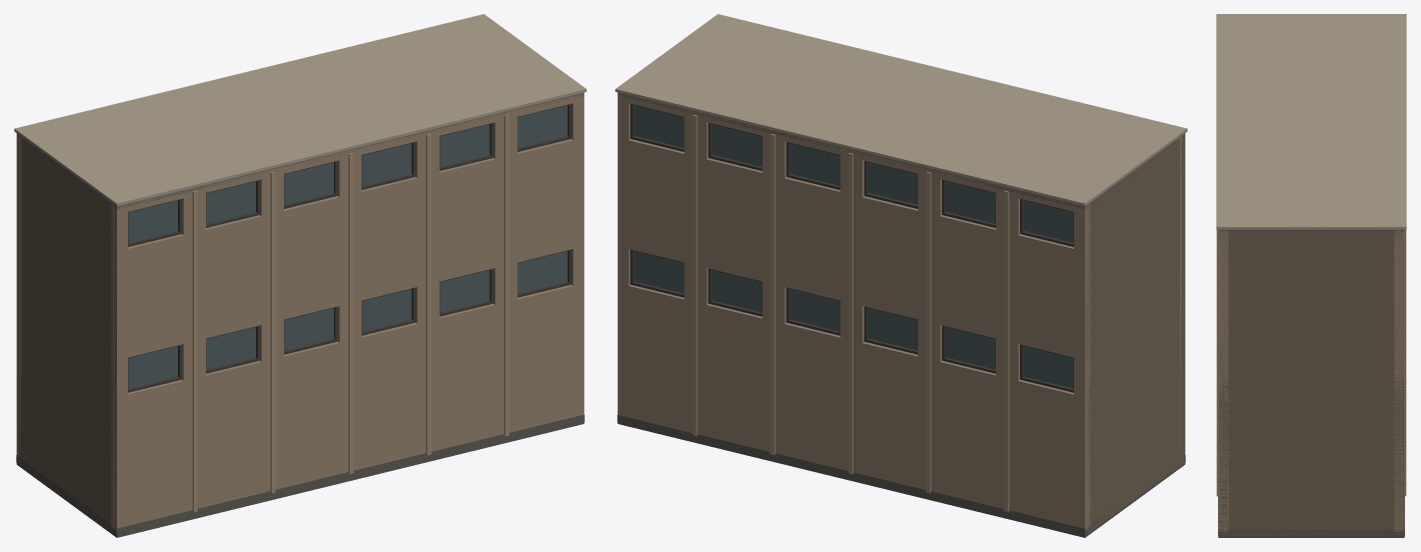
File: huangpu-wing-on-skybridges-lod.glb
3 views of the same model, side by side, from view 1: azimuth 30°, elevation 25°; view 2: azimuth 150°, elevation 25°; view 3: azimuth 270°, elevation 25° (orthographic). The views are drawn at different scales.
Visible parts, largest first — view 1: Roof / coping, Attachment interfaces, South estimated / bay 1/spandrels, South estimated / bay 6/spandrels, South estimated / bay 2/spandrels, South estimated / bay 4/spandrels, South estimated / bay 5/spandrels, South estimated / bay 3/spandrels, Deck / edge trim, South estimated / bay 4/windows, South estimated / bay 1/windows, South estimated / bay 2/windows (+23 smaller); view 2: Roof / coping, Attachment interfaces, North / bay 1/spandrels, North / bay 6/spandrels, North / bay 2/spandrels, North / bay 4/spandrels, North / bay 5/spandrels, North / bay 3/spandrels, Deck / edge trim, North / bay 4/windows, North / bay 1/windows, North / bay 2/windows (+22 smaller); view 3: Attachment interfaces, Roof / coping, North / bay 6/spandrels, South estimated / bay 6/spandrels, Suspended deck / underside, North / division 5, South estimated / division 5, North / bay 6/reveals, South estimated / bay 6/reveals, Roof / closed slab.
Boxes of the visible parts, x1,y1,x2,y2 form: Roof / coping: [14, 14, 586, 206]; Attachment interfaces: [18, 140, 116, 534]; South estimated / bay 1/spandrels: [111, 233, 192, 530]; South estimated / bay 6/spandrels: [509, 137, 584, 432]; South estimated / bay 2/spandrels: [197, 214, 270, 508]; South estimated / bay 4/spandrels: [353, 176, 426, 470]; South estimated / bay 5/spandrels: [431, 157, 504, 451]; South estimated / bay 3/spandrels: [275, 195, 348, 489]; Deck / edge trim: [16, 414, 584, 536]; South estimated / bay 4/windows: [362, 143, 411, 331]; South estimated / bay 1/windows: [128, 200, 177, 388]; South estimated / bay 2/windows: [206, 181, 255, 369]; Roof / coping: [615, 14, 1187, 206]; Attachment interfaces: [1085, 134, 1185, 533]; North / bay 1/spandrels: [1009, 233, 1090, 530]; North / bay 6/spandrels: [617, 137, 692, 432]; North / bay 2/spandrels: [931, 214, 1004, 508]; North / bay 4/spandrels: [775, 176, 848, 470]; North / bay 5/spandrels: [697, 157, 770, 451]; North / bay 3/spandrels: [853, 195, 926, 489]; Deck / edge trim: [617, 414, 1185, 536]; North / bay 4/windows: [790, 143, 839, 331]; North / bay 1/windows: [1024, 200, 1073, 388]; North / bay 2/windows: [946, 181, 995, 369]; Attachment interfaces: [1218, 230, 1404, 535]; Roof / coping: [1216, 14, 1406, 229]; North / bay 6/spandrels: [1394, 272, 1404, 531]; South estimated / bay 6/spandrels: [1218, 272, 1228, 531]; Suspended deck / underside: [1218, 529, 1404, 537]; North / division 5: [1404, 229, 1406, 496]; South estimated / division 5: [1216, 229, 1218, 496]; North / bay 6/reveals: [1394, 237, 1404, 407]; South estimated / bay 6/reveals: [1218, 237, 1228, 407]; Roof / closed slab: [1218, 229, 1404, 232].
Size of the model in its own units: 11.35 by 7.75 by 4.3.
